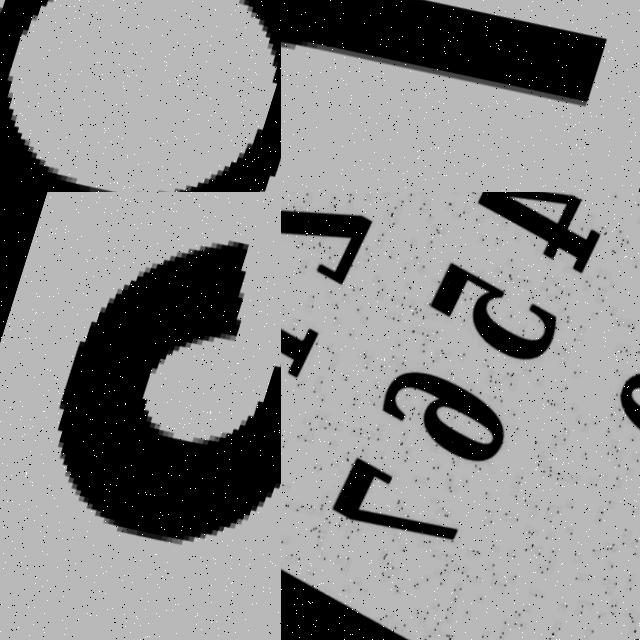0: (565, 328, 640, 523)
1: (281, 248, 347, 409)
3: (16, 192, 281, 640)
4: (448, 192, 638, 314)
5: (400, 231, 587, 404)
6: (0, 0, 281, 192), (324, 317, 548, 515)
7: (283, 422, 496, 607)
M: (281, 0, 640, 192)
